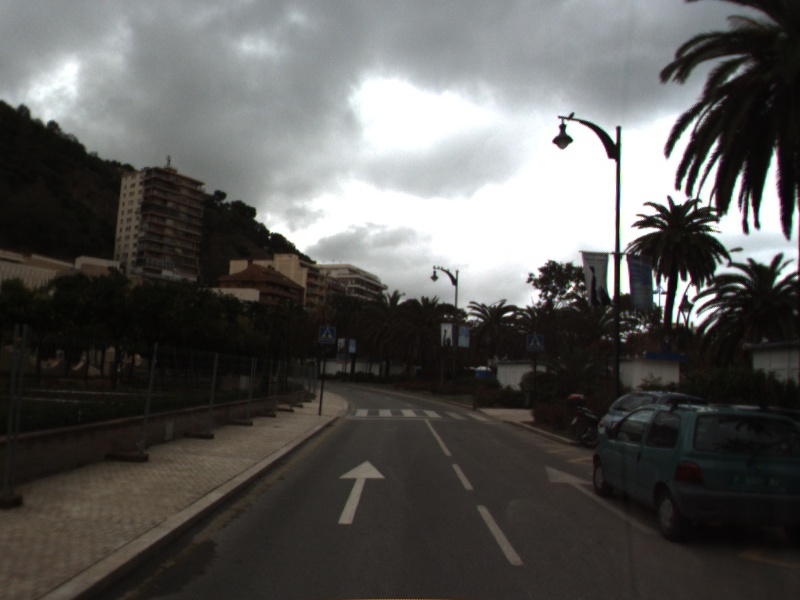STRAIGHT: (543, 463, 661, 536), (335, 459, 387, 526)
